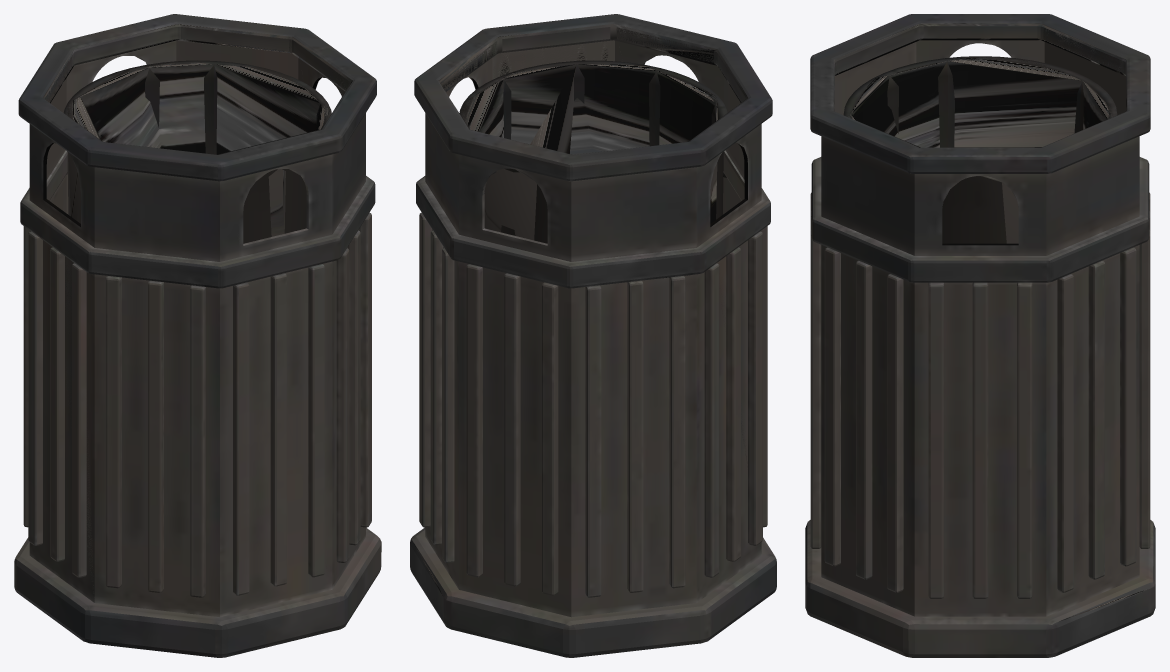
Rendered from g3d_trash_can.glb.
3 views of the same model, side by side, from view 1: azimuth 30°, elevation 25°; view 2: azimuth 150°, elevation 25°; view 3: azimuth 270°, elevation 25° (orthographic).
Parts seen in each view (by area): view 1: trash-can_body.001, trash-can_body.001_lo; view 2: trash-can_body.001, trash-can_body.001_lo; view 3: trash-can_body.001, trash-can_body.001_lo.
Part boxes in pixels (x1=…): trash-can_body.001: x1=14, y1=14, x2=381, y2=657; trash-can_body.001_lo: x1=32, y1=24, x2=352, y2=597; trash-can_body.001: x1=410, y1=14, x2=776, y2=657; trash-can_body.001_lo: x1=414, y1=24, x2=760, y2=593; trash-can_body.001: x1=805, y1=14, x2=1155, y2=657; trash-can_body.001_lo: x1=833, y1=23, x2=1147, y2=621.
Bounding box in the file's own units: 0.594 × 0.94 × 0.594.
1 material, 1 textured.
